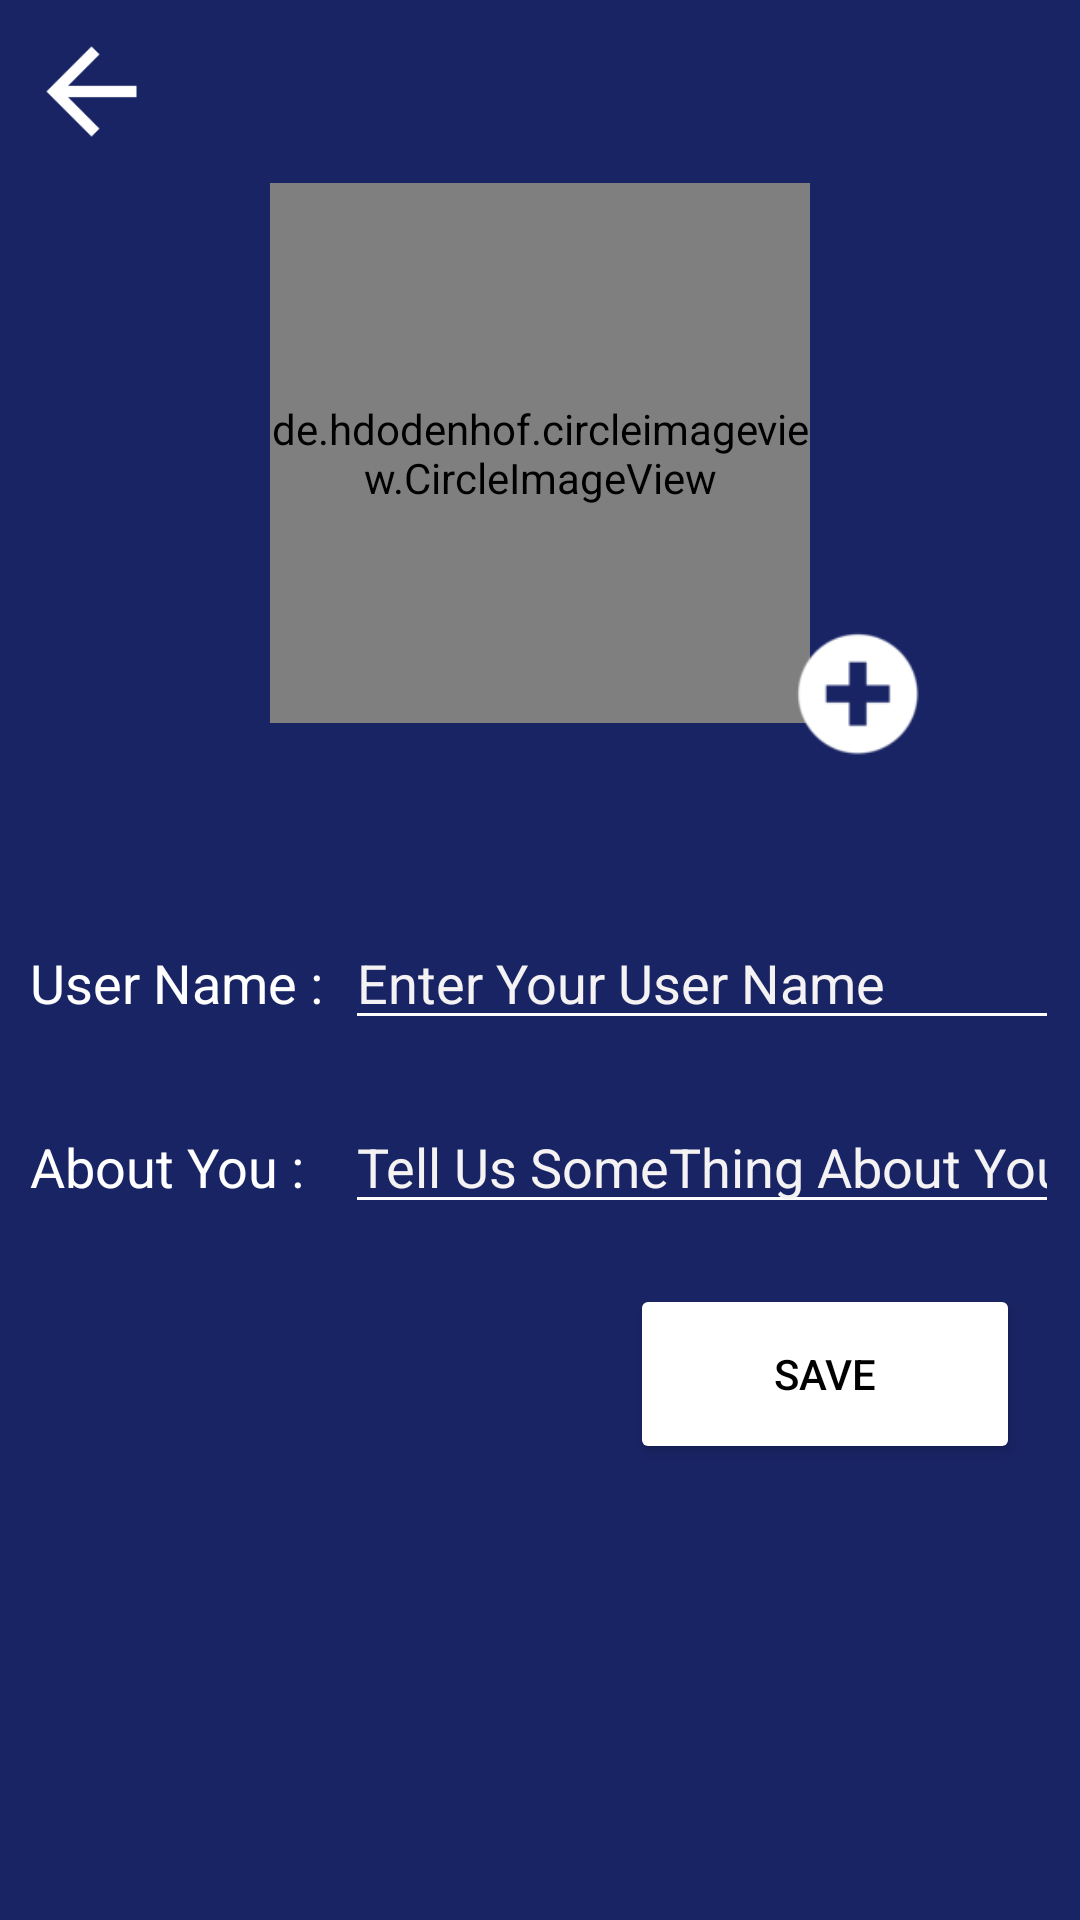

Where icons sit on this 1080px×1920px app screen, as (x1, y1, x2, y2):
arrow back: (46, 46, 137, 137)
plus: (780, 616, 919, 755)
